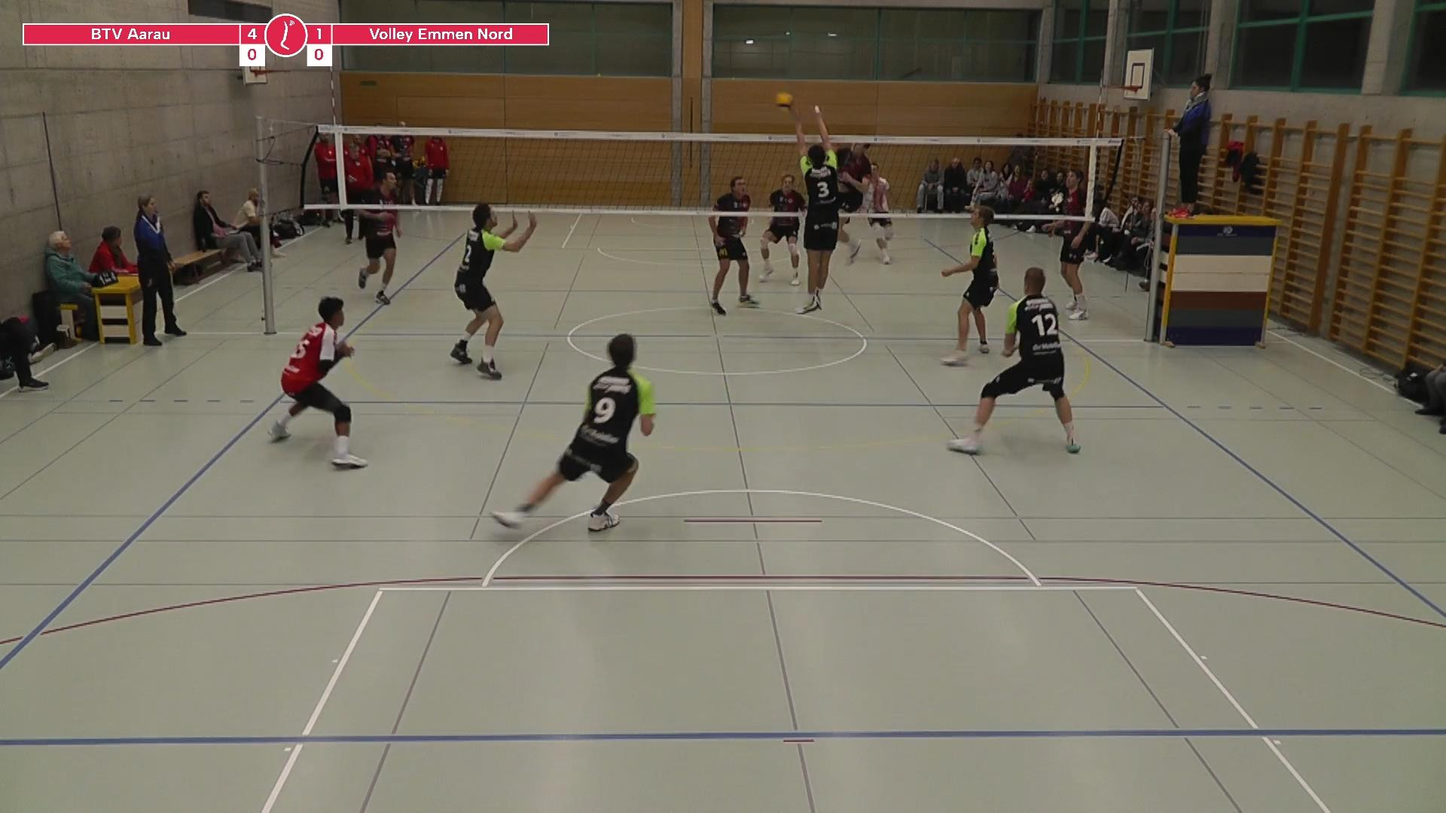attacco: (813, 120, 875, 271)
muro: (775, 100, 865, 320)
